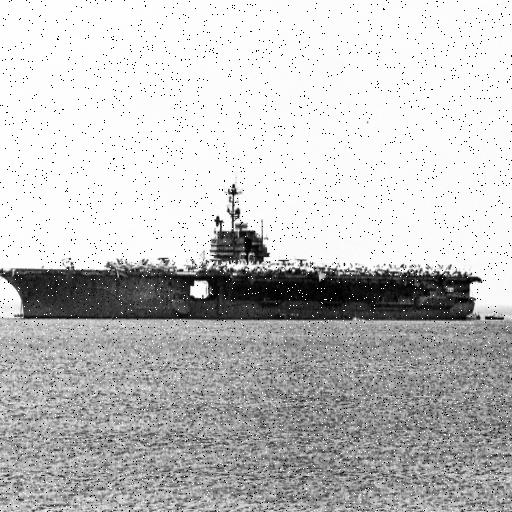Portanaves: (1, 162, 490, 322)
